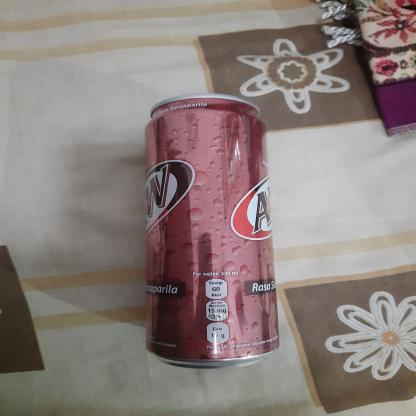bottle: (138, 89, 289, 374)
